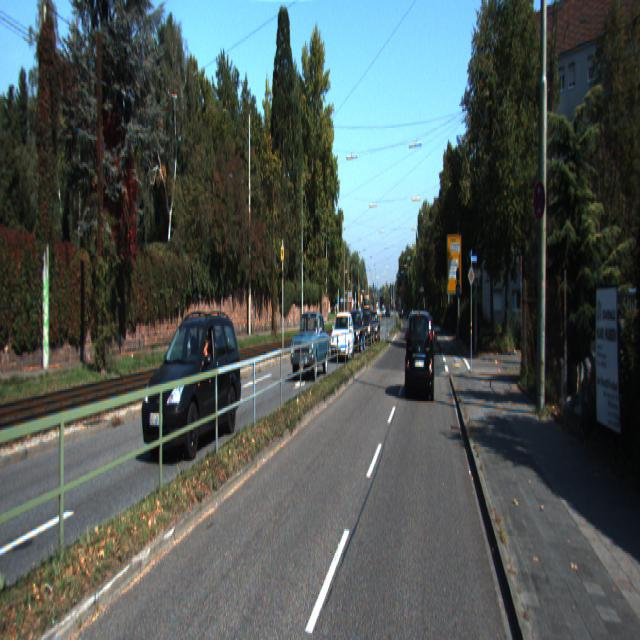Car: (142, 309, 245, 462), (405, 307, 436, 403), (290, 310, 332, 380), (330, 311, 354, 364), (347, 309, 366, 355), (360, 308, 376, 347)
